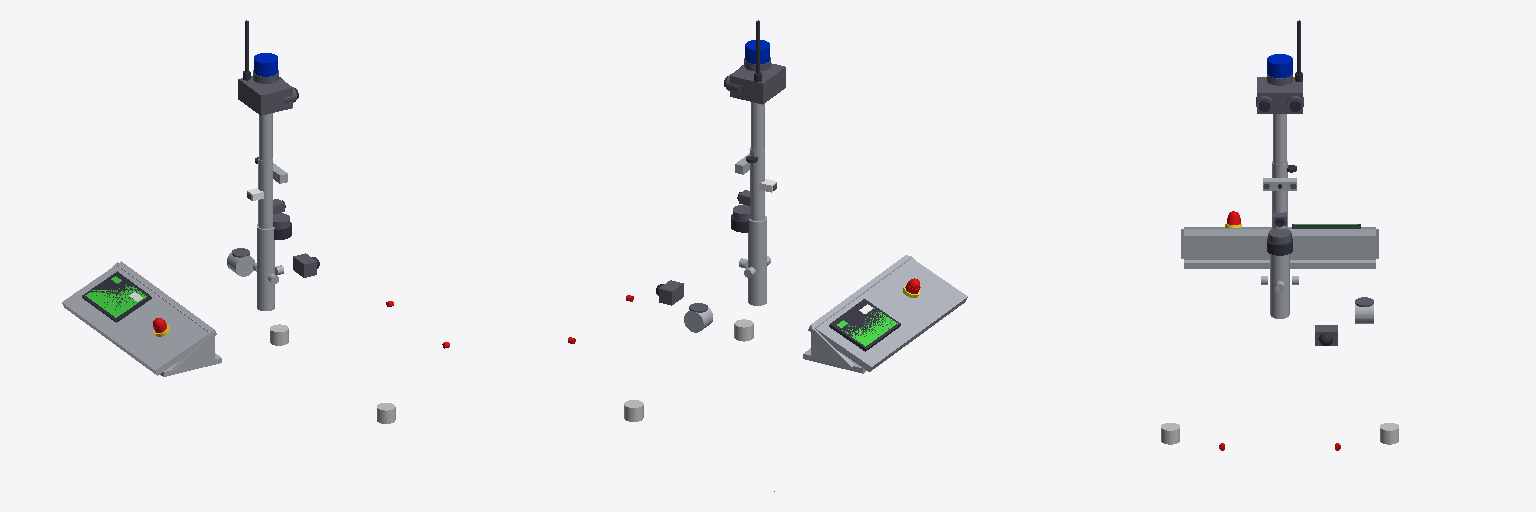
--- Render facts (derived) ---
The picture shows the robot from 3 angles, left to right: view 1: azimuth 30°, elevation 25°; view 2: azimuth 150°, elevation 25°; view 3: azimuth 270°, elevation 25°; orthographic projection.
Model security_patrol_robot with 43 links and 42 joints (1 revolute, 6 continuous, 35 fixed), rooted at base_link, posed every joint at zero.
Links seen in each view (by area): view 1: control_panel_link, lcd_screen_link, sensor_head_link, mast_base_link, mast_mid_link, beacon_light_link, mast_top_link, siren_link; view 2: control_panel_link, lcd_screen_link, sensor_head_link, mast_base_link, mast_mid_link, mast_top_link, siren_link, beacon_light_link, front_camera_link; view 3: control_panel_link, mast_base_link, sensor_head_link, beacon_light_link, mast_top_link, lidar_360_link, mast_mid_link.
Boxes of the visible links, left/top/right/bottom form: control_panel_link: left=62, top=261, right=221, bottom=376; lcd_screen_link: left=82, top=271, right=151, bottom=322; sensor_head_link: left=238, top=76, right=292, bottom=115; mast_base_link: left=257, top=224, right=274, bottom=310; mast_mid_link: left=258, top=158, right=272, bottom=228; beacon_light_link: left=253, top=53, right=278, bottom=83; mast_top_link: left=259, top=113, right=272, bottom=160; siren_link: left=227, top=248, right=254, bottom=276; control_panel_link: left=803, top=255, right=967, bottom=373; lcd_screen_link: left=829, top=299, right=900, bottom=351; sensor_head_link: left=730, top=63, right=785, bottom=104; mast_base_link: left=748, top=216, right=766, bottom=305; mast_mid_link: left=750, top=147, right=764, bottom=220; mast_top_link: left=751, top=102, right=764, bottom=150; siren_link: left=684, top=303, right=712, bottom=332; beacon_light_link: left=744, top=40, right=770, bottom=71; front_camera_link: left=656, top=280, right=683, bottom=305; control_panel_link: left=1181, top=227, right=1378, bottom=268; mast_base_link: left=1270, top=254, right=1289, bottom=318; sensor_head_link: left=1257, top=77, right=1302, bottom=113; beacon_light_link: left=1267, top=54, right=1292, bottom=85; mast_top_link: left=1273, top=114, right=1286, bottom=164; lidar_360_link: left=1267, top=228, right=1292, bottom=255; mast_mid_link: left=1272, top=161, right=1287, bottom=228.
Size in the robot's own frame: 0.9631 by 0.6208 by 1.36 metres.
2 mesh visuals loaded from 10 distinct referenced files (2 binary STL); not drawn: 14 (reference not matched to a file when rendering).

URDF robot description (security_patrol_robot):
<?xml version="1.0"?>
<robot name="security_patrol_robot">

  <!-- ========================================== -->
  <!-- MATERIALS                                  -->
  <!-- ========================================== -->
  <material name="police_white">
    <color rgba="0.95 0.95 0.95 1.0"/>
  </material>
  <material name="tactical_black">
    <color rgba="0.25 0.25 0.3 1.0"/>
  </material>
  <material name="warning_orange">
    <color rgba="1.0 0.5 0.0 1.0"/>
  </material>
  <material name="police_blue">
    <color rgba="0.0 0.2 0.8 1.0"/>
  </material>
  <material name="chrome_finish">
    <color rgba="0.8 0.8 0.8 1.0"/>
  </material>
  <material name="tire_rubber">
    <color rgba="0.2 0.2 0.22 1.0"/>
  </material>
  <material name="emergency_red">
    <color rgba="0.9 0.1 0.1 1.0"/>
  </material>
  <material name="sensor_green">
    <color rgba="0.3 0.85 0.3 1.0"/>
  </material>
  <material name="sensor_yellow">
    <color rgba="0.95 0.85 0.2 1.0"/>
  </material>
  <material name="sensor_cyan">
    <color rgba="0.2 0.8 0.9 1.0"/>
  </material>
  <material name="camera_gray">
    <color rgba="0.4 0.4 0.45 1.0"/>
  </material>
  <material name="lidar_blue">
    <color rgba="0.3 0.5 0.8 1.0"/>
  </material>
  <material name="mast_silver">
    <color rgba="0.7 0.72 0.75 1.0"/>
  </material>

  <!-- ========================================== -->
  <!-- BASE LINK & CHASSIS                        -->
  <!-- ========================================== -->
  <link name="base_link"/>

  <link name="base_footprint">
    <visual>
      <origin xyz="0 0 0" rpy="0 0 0"/>
      <geometry>
        <box size="0.001 0.001 0.001"/>
      </geometry>
    </visual>
  </link>

  <joint name="base_footprint_joint" type="fixed">
    <parent link="base_link"/>
    <child link="base_footprint"/>
    <origin xyz="0 0 -0.14" rpy="0 0 0"/>
  </joint>

  <link name="chassis_link">
    <visual>
      <origin xyz="0 0 0" rpy="0 0 0"/>
      <geometry>
        <mesh filename="package://security_robot/meshes/base/husky_base.dae"/>
      </geometry>
      <material name="police_white"/>
    </visual>
    <collision>
      <origin xyz="0 0 0.12" rpy="0 0 0"/>
      <geometry>
        <box size="0.99 0.67 0.25"/>
      </geometry>
    </collision>
    <inertial>
      <origin xyz="0 0 0.1" rpy="0 0 0"/>
      <mass value="50.0"/>
      <inertia ixx="1.5" ixy="0" ixz="0" iyy="2.5" iyz="0" izz="3.5"/>
    </inertial>
  </link>

  <joint name="base_joint" type="fixed">
    <parent link="base_link"/>
    <child link="chassis_link"/>
    <origin xyz="0 0 0.14" rpy="0 0 0"/>
  </joint>

  <!-- FENDERS -->
  <link name="fenders_link">
    <visual>
      <origin xyz="0 0 0" rpy="0 0 0"/>
      <geometry>
        <mesh filename="package://security_robot/meshes/base/fenders.stl"/>
      </geometry>
      <material name="warning_orange"/>
    </visual>
    <collision>
      <origin xyz="0 0 0.05" rpy="0 0 0"/>
      <geometry>
        <box size="1.0 0.75 0.1"/>
      </geometry>
    </collision>
    <inertial>
      <mass value="2.0"/>
      <inertia ixx="0.05" ixy="0" ixz="0" iyy="0.05" iyz="0" izz="0.05"/>
    </inertial>
  </link>

  <joint name="chassis_to_fenders" type="fixed">
    <parent link="chassis_link"/>
    <child link="fenders_link"/>
    <origin xyz="0 0 0" rpy="0 0 0"/>
  </joint>

  <!-- TOP PLATE -->
  <link name="top_plate">
    <visual>
      <origin xyz="0 0 0" rpy="0 0 0"/>
      <geometry>
        <mesh filename="package://security_robot/meshes/base/husky_top_plate.dae"/>
      </geometry>
      <material name="tactical_black"/>
    </visual>
    <collision>
      <origin xyz="0 0 0" rpy="0 0 0"/>
      <geometry>
        <box size="0.8 0.6 0.02"/>
      </geometry>
    </collision>
    <inertial>
      <mass value="3.0"/>
      <inertia ixx="0.1" ixy="0" ixz="0" iyy="0.1" iyz="0" izz="0.15"/>
    </inertial>
  </link>

  <joint name="chassis_to_top" type="fixed">
    <parent link="chassis_link"/>
    <child link="top_plate"/>
    <origin xyz="0 0 0.24" rpy="0 0 0"/>
  </joint>

  <!-- USER RAILS -->
  <link name="user_rail">
    <visual>
      <origin xyz="0 0 0" rpy="0 0 0"/>
      <geometry>
        <mesh filename="package://security_robot/meshes/base/husky_user_rail.dae"/>
      </geometry>
      <material name="chrome_finish"/>
    </visual>
    <collision>
      <origin xyz="0 0 0" rpy="0 0 0"/>
      <geometry>
        <box size="0.6 0.1 0.05"/>
      </geometry>
    </collision>
    <inertial>
      <mass value="0.5"/>
      <inertia ixx="0.001" ixy="0" ixz="0" iyy="0.01" iyz="0" izz="0.01"/>
    </inertial>
  </link>

  <joint name="top_to_rail" type="fixed">
    <parent link="top_plate"/>
    <child link="user_rail"/>
    <origin xyz="0.2 0 0" rpy="0 0 0"/>
  </joint>

  <!-- ========================================== -->
  <!-- BUMPERS WITH SENSORS                       -->
  <!-- ========================================== -->
  <link name="front_bumper">
    <visual>
      <origin xyz="0 0 0" rpy="0 0 0"/>
      <geometry>
        <mesh filename="package://security_robot/meshes/base/husky_bumper.dae"/>
      </geometry>
      <material name="warning_orange"/>
    </visual>
    <collision>
      <origin xyz="0 0 0" rpy="0 0 0"/>
      <geometry>
        <box size="0.1 0.6 0.1"/>
      </geometry>
    </collision>
    <inertial>
      <mass value="1.5"/>
      <inertia ixx="0.005" ixy="0" ixz="0" iyy="0.02" iyz="0" izz="0.02"/>
    </inertial>
  </link>

  <joint name="front_bumper_joint" type="fixed">
    <parent link="chassis_link"/>
    <child link="front_bumper"/>
    <origin xyz="0.49 0 0.09" rpy="0 0 0"/>
  </joint>

  <link name="rear_bumper">
    <visual>
      <origin xyz="0 0 0" rpy="0 0 3.14159"/>
      <geometry>
        <mesh filename="package://security_robot/meshes/base/husky_bumper.dae"/>
      </geometry>
      <material name="warning_orange"/>
    </visual>
    <collision>
      <origin xyz="0 0 0" rpy="0 0 0"/>
      <geometry>
        <box size="0.1 0.6 0.1"/>
      </geometry>
    </collision>
    <inertial>
      <mass value="1.5"/>
      <inertia ixx="0.005" ixy="0" ixz="0" iyy="0.02" iyz="0" izz="0.02"/>
    </inertial>
  </link>

  <joint name="rear_bumper_joint" type="fixed">
    <parent link="chassis_link"/>
    <child link="rear_bumper"/>
    <origin xyz="-0.49 0 0.09" rpy="0 0 0"/>
  </joint>

  <!-- FRONT IR SENSORS (Obstacle Detection) -->
  <link name="front_ir_left">
    <visual>
      <origin xyz="0 0 0" rpy="0 0 0"/>
      <geometry>
        <mesh filename="package://security_robot/meshes/sensors/ir_sensor.dae"/>
      </geometry>
      <material name="tactical_black"/>
    </visual>
    <collision>
      <geometry>
        <box size="0.02 0.02 0.02"/>
      </geometry>
    </collision>
    <inertial>
      <mass value="0.02"/>
      <inertia ixx="0.0001" ixy="0" ixz="0" iyy="0.0001" iyz="0" izz="0.0001"/>
    </inertial>
  </link>
  <joint name="front_bumper_to_ir_left" type="fixed">
    <parent link="front_bumper"/>
    <child link="front_ir_left"/>
    <origin xyz="0.02 0.15 0" rpy="0 0 0.3"/>
  </joint>

  <link name="front_ir_center">
    <visual>
      <origin xyz="0 0 0" rpy="0 0 0"/>
      <geometry>
        <mesh filename="package://security_robot/meshes/sensors/ir_sensor.dae"/>
      </geometry>
      <material name="tactical_black"/>
    </visual>
    <collision>
      <geometry>
        <box size="0.02 0.02 0.02"/>
      </geometry>
    </collision>
    <inertial>
      <mass value="0.02"/>
      <inertia ixx="0.0001" ixy="0" ixz="0" iyy="0.0001" iyz="0" izz="0.0001"/>
    </inertial>
  </link>
  <joint name="front_bumper_to_ir_center" type="fixed">
    <parent link="front_bumper"/>
    <child link="front_ir_center"/>
    <origin xyz="0.02 0 0" rpy="0 0 0"/>
  </joint>

  <link name="front_ir_right">
    <visual>
      <origin xyz="0 0 0" rpy="0 0 0"/>
      <geometry>
        <mesh filename="package://security_robot/meshes/sensors/ir_sensor.dae"/>
      </geometry>
      <material name="tactical_black"/>
    </visual>
    <collision>
      <geometry>
        <box size="0.02 0.02 0.02"/>
      </geometry>
    </collision>
    <inertial>
      <mass value="0.02"/>
      <inertia ixx="0.0001" ixy="0" ixz="0" iyy="0.0001" iyz="0" izz="0.0001"/>
    </inertial>
  </link>
  <joint name="front_bumper_to_ir_right" type="fixed">
    <parent link="front_bumper"/>
    <child link="front_ir_right"/>
    <origin xyz="0.02 -0.15 0" rpy="0 0 -0.3"/>
  </joint>

  <!-- ========================================== -->
  <!-- DIFFERENTIAL DRIVE SYSTEM                  -->
  <!-- 2 Motorlu Arka Tekerlek + 2 Caster Ön Tekerlek -->
  <!-- ========================================== -->

  <!-- ==================== MOTORLU ARKA TEKERLEKLER (Tahrik) ==================== -->
  
  <link name="rear_left_wheel">
    <visual>
      <origin xyz="0 0 0" rpy="0 0 0"/>
      <geometry>
        <mesh filename="package://security_robot/meshes/wheels/husky_wheel.dae" scale="0.79 0.79 0.79"/>
      </geometry>
      <material name="tire_rubber"/>
    </visual>
    <collision>
      <origin xyz="0 0 0" rpy="1.5708 0 0"/>
      <geometry>
        <cylinder radius="0.13" length="0.09"/>
      </geometry>
    </collision>
    <inertial>
      <origin xyz="0 0 0" rpy="0 0 0"/>
      <mass value="2.0"/>
      <inertia ixx="0.012" ixy="0" ixz="0" iyy="0.012" iyz="0" izz="0.022"/>
    </inertial>
  </link>
  <joint name="rl_wheel_joint" type="continuous">
    <parent link="chassis_link"/>
    <child link="rear_left_wheel"/>
    <origin xyz="-0.256 0.2854 -0.005" rpy="0 0 0"/>
    <axis xyz="0 1 0"/>
    <dynamics damping="0.1" friction="0.5"/>
  </joint>

  <link name="rear_right_wheel">
    <visual>
      <origin xyz="0 0 0" rpy="0 0 0"/>
      <geometry>
        <mesh filename="package://security_robot/meshes/wheels/husky_wheel.dae" scale="0.79 0.79 0.79"/>
      </geometry>
      <material name="tire_rubber"/>
    </visual>
    <collision>
      <origin xyz="0 0 0" rpy="1.5708 0 0"/>
      <geometry>
        <cylinder radius="0.13" length="0.09"/>
      </geometry>
    </collision>
    <inertial>
      <origin xyz="0 0 0" rpy="0 0 0"/>
      <mass value="2.0"/>
      <inertia ixx="0.012" ixy="0" ixz="0" iyy="0.012" iyz="0" izz="0.022"/>
    </inertial>
  </link>
  <joint name="rr_wheel_joint" type="continuous">
    <parent link="chassis_link"/>
    <child link="rear_right_wheel"/>
    <origin xyz="-0.256 -0.2854 -0.005" rpy="0 0 0"/>
    <axis xyz="0 1 0"/>
    <dynamics damping="0.1" friction="0.5"/>
  </joint>

  <!-- ==================== CASTER (SARHOŞ) ÖN TEKERLEKLER ==================== -->
  <!-- Caster tekerlekler iki eklemden oluşur:                                  -->
  <!-- 1. Yaw ekseni (Z): Dikey eksende serbest dönüş (yön değiştirme)         -->
  <!-- 2. Roll ekseni (Y): Tekerleğin kendi ekseni etrafında yuvarlanması      -->
  <!-- ======================================================================== -->

  <!-- SOL ÖN CASTER -->
  <!-- Caster pivot (dikey eksen - yaw) -->
  <link name="front_left_caster_pivot">
    <visual>
      <origin xyz="0 0 -0.02" rpy="0 0 0"/>
      <geometry>
        <cylinder radius="0.025" length="0.04"/>
      </geometry>
      <material name="chrome_finish"/>
    </visual>
    <collision>
      <origin xyz="0 0 -0.02" rpy="0 0 0"/>
      <geometry>
        <cylinder radius="0.025" length="0.04"/>
      </geometry>
    </collision>
    <inertial>
      <origin xyz="0 0 -0.02"/>
      <mass value="0.3"/>
      <inertia ixx="0.0002" ixy="0" ixz="0" iyy="0.0002" iyz="0" izz="0.0001"/>
    </inertial>
  </link>
  <joint name="fl_caster_yaw_joint" type="continuous">
    <parent link="chassis_link"/>
    <child link="front_left_caster_pivot"/>
    <origin xyz="0.256 0.2854 0.025" rpy="0 0 0"/>
    <axis xyz="0 0 1"/>
    <dynamics damping="0.01" friction="0.0"/>
  </joint>

  <!-- Caster tekerlek (yatay eksen - roll) -->
  <link name="front_left_caster_wheel">
    <visual>
      <origin xyz="0 0 0" rpy="0 0 0"/>
      <geometry>
        <mesh filename="package://security_robot/meshes/wheels/husky_wheel.dae" scale="0.60 0.60 0.60"/>
      </geometry>
      <material name="tire_rubber"/>
    </visual>
    <collision>
      <origin xyz="0 0 0" rpy="1.5708 0 0"/>
      <geometry>
        <cylinder radius="0.10" length="0.06"/>
      </geometry>
    </collision>
    <inertial>
      <origin xyz="0 0 0"/>
      <mass value="0.8"/>
      <inertia ixx="0.003" ixy="0" ixz="0" iyy="0.003" iyz="0" izz="0.005"/>
    </inertial>
  </link>
  <joint name="fl_caster_roll_joint" type="continuous">
    <parent link="front_left_caster_pivot"/>
    <child link="front_left_caster_wheel"/>
    <origin xyz="0.02 0 -0.065" rpy="0 0 0"/>
    <axis xyz="0 1 0"/>
    <dynamics damping="0.01" friction="0.0"/>
  </joint>

  <!-- SAĞ ÖN CASTER -->
  <!-- Caster pivot (dikey eksen - yaw) -->
  <link name="front_right_caster_pivot">
    <visual>
      <origin xyz="0 0 -0.02" rpy="0 0 0"/>
      <geometry>
        <cylinder radius="0.025" length="0.04"/>
      </geometry>
      <material name="chrome_finish"/>
    </visual>
    <collision>
      <origin xyz="0 0 -0.02" rpy="0 0 0"/>
      <geometry>
        <cylinder radius="0.025" length="0.04"/>
      </geometry>
    </collision>
    <inertial>
      <origin xyz="0 0 -0.02"/>
      <mass value="0.3"/>
      <inertia ixx="0.0002" ixy="0" ixz="0" iyy="0.0002" iyz="0" izz="0.0001"/>
    </inertial>
  </link>
  <joint name="fr_caster_yaw_joint" type="continuous">
    <parent link="chassis_link"/>
    <child link="front_right_caster_pivot"/>
    <origin xyz="0.256 -0.2854 0.025" rpy="0 0 0"/>
    <axis xyz="0 0 1"/>
    <dynamics damping="0.01" friction="0.0"/>
  </joint>

  <!-- Caster tekerlek (yatay eksen - roll) -->
  <link name="front_right_caster_wheel">
    <visual>
      <origin xyz="0 0 0" rpy="0 0 0"/>
      <geometry>
        <mesh filename="package://security_robot/meshes/wheels/husky_wheel.dae" scale="0.60 0.60 0.60"/>
      </geometry>
      <material name="tire_rubber"/>
    </visual>
    <collision>
      <origin xyz="0 0 0" rpy="1.5708 0 0"/>
      <geometry>
        <cylinder radius="0.10" length="0.06"/>
      </geometry>
    </collision>
    <inertial>
      <origin xyz="0 0 0"/>
      <mass value="0.8"/>
      <inertia ixx="0.003" ixy="0" ixz="0" iyy="0.003" iyz="0" izz="0.005"/>
    </inertial>
  </link>
  <joint name="fr_caster_roll_joint" type="continuous">
    <parent link="front_right_caster_pivot"/>
    <child link="front_right_caster_wheel"/>
    <origin xyz="0.02 0 -0.065" rpy="0 0 0"/>
    <axis xyz="0 1 0"/>
    <dynamics damping="0.01" friction="0.0"/>
  </joint>

  <!-- ========================================== -->
  <!-- IMU SENSOR (On Chassis)                    -->
  <!-- ========================================== -->
  <link name="imu_link">
    <visual>
      <origin xyz="0 0 0" rpy="0 0 0"/>
      <geometry>
        <mesh filename="package://security_robot/meshes/sensors/imu_sensor.stl" scale="0.001 0.001 0.001"/>
      </geometry>
      <material name="sensor_green"/>
    </visual>
    <collision>
      <geometry>
        <box size="0.03 0.03 0.01"/>
      </geometry>
    </collision>
    <inertial>
      <mass value="0.01"/>
      <inertia ixx="0.00001" ixy="0" ixz="0" iyy="0.00001" iyz="0" izz="0.00001"/>
    </inertial>
  </link>
  <joint name="chassis_to_imu" type="fixed">
    <parent link="chassis_link"/>
    <child link="imu_link"/>
    <origin xyz="0 0 0.2" rpy="0 0 0"/>
  </joint>

  <!-- ========================================== -->
  <!-- 3-LEVEL VERTICAL SENSOR MAST                -->
  <!-- Referans: SIRD-3000S / Husky Observer       -->
  <!-- Basit dikey silindir yapısı                 -->
  <!-- 3 seviye: mast_base, mast_mid, mast_top     -->
  <!-- ========================================== -->

  <!-- ==================== MAST STRUCTURE (3 Level - From V2) ==================== -->
  
  <!-- MAST BASE - Level 1 (Silver vertical cylinder) -->
  <link name="mast_base_link">
    <visual>
      <origin xyz="0 0 0.12" rpy="0 0 0"/>
      <geometry>
        <cylinder radius="0.025" length="0.24"/>
      </geometry>
      <material name="mast_silver"/>
    </visual>
    <collision>
      <origin xyz="0 0 0.12" rpy="0 0 0"/>
      <geometry>
        <cylinder radius="0.025" length="0.24"/>
      </geometry>
    </collision>
    <inertial>
      <mass value="1.0"/>
      <origin xyz="0 0 0.12"/>
      <inertia ixx="0.01" ixy="0" ixz="0" iyy="0.01" iyz="0" izz="0.002"/>
    </inertial>
  </link>
  <joint name="top_to_mast_base" type="fixed">
    <parent link="top_plate"/>
    <child link="mast_base_link"/>
    <origin xyz="0.05 0 0.01" rpy="0 0 0"/>
  </joint>

  <!-- 360 LIDAR (On mast base level) -->
  <link name="lidar_360_link">
    <!-- LiDAR base -->
    <visual>
      <origin xyz="0 0 0" rpy="0 0 0"/>
      <geometry>
        <cylinder radius="0.035" length="0.03"/>
      </geometry>
      <material name="tactical_black"/>
    </visual>
    <!-- LiDAR rotating top -->
    <visual>
      <origin xyz="0 0 0.025" rpy="0 0 0"/>
      <geometry>
        <cylinder radius="0.030" length="0.02"/>
      </geometry>
      <material name="camera_gray"/>
    </visual>
    <collision>
      <origin xyz="0 0 0.015" rpy="0 0 0"/>
      <geometry>
        <cylinder radius="0.035" length="0.05"/>
      </geometry>
    </collision>
    <inertial>
      <mass value="0.2"/>
      <inertia ixx="0.0001" ixy="0" ixz="0" iyy="0.0001" iyz="0" izz="0.0001"/>
    </inertial>
  </link>
  <joint name="mast_base_to_lidar360" type="fixed">
    <parent link="mast_base_link"/>
    <child link="lidar_360_link"/>
    <origin xyz="0.04 0 0.22" rpy="0 0 0"/>
  </joint>

  <!-- MAST MID - Level 2 (Thinner cylinder) -->
  <link name="mast_mid_link">
    <visual>
      <origin xyz="0 0 0.10" rpy="0 0 0"/>
      <geometry>
        <cylinder radius="0.020" length="0.20"/>
      </geometry>
      <material name="mast_silver"/>
    </visual>
    <collision>
      <origin xyz="0 0 0.10" rpy="0 0 0"/>
      <geometry>
        <cylinder radius="0.020" length="0.20"/>
      </geometry>
    </collision>
    <inertial>
      <mass value="0.7"/>
      <origin xyz="0 0 0.10"/>
      <inertia ixx="0.005" ixy="0" ixz="0" iyy="0.005" iyz="0" izz="0.001"/>
    </inertial>
  </link>
  <joint name="mast_base_to_mast_mid" type="fixed">
    <parent link="mast_base_link"/>
    <child link="mast_mid_link"/>
    <origin xyz="0 0 0.24" rpy="0 0 0"/>
  </joint>

  <!-- DEPTH CAMERA (RealSense style on mast mid) -->
  <link name="depth_camera_link">
    <visual>
      <origin xyz="0 0 0" rpy="0 0 0"/>
      <geometry>
        <box size="0.025 0.09 0.025"/>
      </geometry>
      <material name="mast_silver"/>
    </visual>
    <!-- IR emitters (left and right) -->
    <visual>
      <origin xyz="0.012 0.035 0" rpy="0 1.5708 0"/>
      <geometry>
        <cylinder radius="0.008" length="0.005"/>
      </geometry>
      <material name="camera_gray"/>
    </visual>
    <visual>
      <origin xyz="0.012 -0.035 0" rpy="0 1.5708 0"/>
      <geometry>
        <cylinder radius="0.008" length="0.005"/>
      </geometry>
      <material name="camera_gray"/>
    </visual>
    <!-- RGB camera (center) -->
    <visual>
      <origin xyz="0.012 0 0" rpy="0 1.5708 0"/>
      <geometry>
        <cylinder radius="0.006" length="0.005"/>
      </geometry>
      <material name="tactical_black"/>
    </visual>
    <collision>
      <geometry>
        <box size="0.025 0.09 0.025"/>
      </geometry>
    </collision>
    <inertial>
      <mass value="0.072"/>
      <inertia ixx="0.00001" ixy="0" ixz="0" iyy="0.00001" iyz="0" izz="0.00001"/>
    </inertial>
  </link>
  <joint name="mast_mid_to_depth_camera" type="fixed">
    <parent link="mast_mid_link"/>
    <child link="depth_camera_link"/>
    <origin xyz="0.03 0 0.15" rpy="0 0 0"/>
  </joint>

  <!-- MAST TOP - Level 3 -->
  <link name="mast_top_link">
    <visual>
      <origin xyz="0 0 0.08" rpy="0 0 0"/>
      <geometry>
        <cylinder radius="0.018" length="0.16"/>
      </geometry>
      <material name="mast_silver"/>
    </visual>
    <collision>
      <origin xyz="0 0 0.08" rpy="0 0 0"/>
      <geometry>
        <cylinder radius="0.018" length="0.16"/>
      </geometry>
    </collision>
    <inertial>
      <mass value="0.5"/>
      <origin xyz="0 0 0.08"/>
      <inertia ixx="0.003" ixy="0" ixz="0" iyy="0.003" iyz="0" izz="0.0005"/>
    </inertial>
  </link>
  <joint name="mast_mid_to_mast_top" type="fixed">
    <parent link="mast_mid_link"/>
    <child link="mast_top_link"/>
    <origin xyz="0 0 0.20" rpy="0 0 0"/>
  </joint>

  <!-- ==================== SENSOR HEAD (Top of mast with cameras - From V2) ==================== -->
  <link name="sensor_head_link">
    <visual>
      <origin xyz="0 0 0" rpy="0 0 0"/>
      <geometry>
        <box size="0.10 0.12 0.06"/>
      </geometry>
      <material name="camera_gray"/>
    </visual>
    <collision>
      <geometry>
        <box size="0.10 0.12 0.06"/>
      </geometry>
    </collision>
    <inertial>
      <mass value="0.5"/>
      <inertia ixx="0.002" ixy="0" ixz="0" iyy="0.002" iyz="0" izz="0.001"/>
    </inertial>
  </link>
  <joint name="mast_top_to_sensor_head" type="revolute">
    <parent link="mast_top_link"/>
    <child link="sensor_head_link"/>
    <origin xyz="0 0 0.19" rpy="0 0 0"/>
    <axis xyz="0 0 1"/>
    <limit lower="-3.14159" upper="3.14159" effort="10" velocity="1.0"/>
  </joint>

  <!-- ==================== CAMERAS ON SENSOR HEAD (Cylindrical lens - From V2) ==================== -->
  <!-- Left Camera (Cylindrical lens housing) -->
  <link name="camera_left_link">
    <visual>
      <origin xyz="0.02 0 0" rpy="0 1.5708 0"/>
      <geometry>
        <cylinder radius="0.022" length="0.04"/>
      </geometry>
      <material name="camera_gray"/>
    </visual>
    <!-- Camera lens -->
    <visual>
      <origin xyz="0.045 0 0" rpy="0 1.5708 0"/>
      <geometry>
        <cylinder radius="0.015" length="0.01"/>
      </geometry>
      <material name="tactical_black"/>
    </visual>
    <collision>
      <origin xyz="0.02 0 0" rpy="0 1.5708 0"/>
      <geometry>
        <cylinder radius="0.022" length="0.04"/>
      </geometry>
    </collision>
    <inertial>
      <mass value="0.1"/>
      <inertia ixx="0.00005" ixy="0" ixz="0" iyy="0.00005" iyz="0" izz="0.00005"/>
    </inertial>
  </link>
  <joint name="sensor_head_to_camera_left" type="fixed">
    <parent link="sensor_head_link"/>
    <child link="camera_left_link"/>
    <origin xyz="0.02 0.04 0" rpy="0 0 0"/>
  </joint>

  <!-- Right Camera (Cylindrical lens housing) -->
  <link name="camera_right_link">
    <visual>
      <origin xyz="0.02 0 0" rpy="0 1.5708 0"/>
      <geometry>
        <cylinder radius="0.022" length="0.04"/>
      </geometry>
      <material name="camera_gray"/>
    </visual>
    <!-- Camera lens -->
    <visual>
      <origin xyz="0.045 0 0" rpy="0 1.5708 0"/>
      <geometry>
        <cylinder radius="0.015" length="0.01"/>
      </geometry>
      <material name="tactical_black"/>
    </visual>
    <collision>
      <origin xyz="0.02 0 0" rpy="0 1.5708 0"/>
      <geometry>
        <cylinder radius="0.022" length="0.04"/>
      </geometry>
    </collision>
    <inertial>
      <mass value="0.1"/>
      <inertia ixx="0.00005" ixy="0" ixz="0" iyy="0.00005" iyz="0" izz="0.00005"/>
    </inertial>
  </link>
  <joint name="sensor_head_to_camera_right" type="fixed">
    <parent link="sensor_head_link"/>
    <child link="camera_right_link"/>
    <origin xyz="0.02 -0.04 0" rpy="0 0 0"/>
  </joint>

  <!-- ==================== BEACON LIGHT (Blue rotating light on top - From V2) ==================== -->
  <link name="beacon_light_link">
    <!-- Beacon base -->
    <visual>
      <origin xyz="0 0 0" rpy="0 0 0"/>
      <geometry>
        <cylinder radius="0.035" length="0.02"/>
      </geometry>
      <material name="camera_gray"/>
    </visual>
    <!-- Blue light dome -->
    <visual>
      <origin xyz="0 0 0.03" rpy="0 0 0"/>
      <geometry>
        <cylinder radius="0.033" length="0.04"/>
      </geometry>
      <material name="police_blue"/>
    </visual>
    <collision>
      <origin xyz="0 0 0.025" rpy="0 0 0"/>
      <geometry>
        <cylinder radius="0.035" length="0.05"/>
      </geometry>
    </collision>
    <inertial>
      <mass value="0.15"/>
      <inertia ixx="0.0001" ixy="0" ixz="0" iyy="0.0001" iyz="0" izz="0.0001"/>
    </inertial>
  </link>
  <joint name="sensor_head_to_beacon" type="fixed">
    <parent link="sensor_head_link"/>
    <child link="beacon_light_link"/>
    <origin xyz="0 0 0.055" rpy="0 0 0"/>
  </joint>

  <!-- ==================== ANTENNA (Vertical antenna next to beacon - From V2) ==================== -->
  <link name="antenna_link">
    <visual>
      <origin xyz="0 0 0.08" rpy="0 0 0"/>
      <geometry>
        <cylinder radius="0.005" length="0.16"/>
      </geometry>
      <material name="tactical_black"/>
    </visual>
    <!-- Antenna base -->
    <visual>
      <origin xyz="0 0 0" rpy="0 0 0"/>
      <geometry>
        <cylinder radius="0.01" length="0.02"/>
      </geometry>
      <material name="tactical_black"/>
    </visual>
    <collision>
      <origin xyz="0 0 0.08" rpy="0 0 0"/>
      <geometry>
        <cylinder radius="0.008" length="0.16"/>
      </geometry>
    </collision>
    <inertial>
      <mass value="0.03"/>
      <inertia ixx="0.00001" ixy="0" ixz="0" iyy="0.00001" iyz="0" izz="0.000001"/>
    </inertial>
  </link>
  <joint name="sensor_head_to_antenna" type="fixed">
    <parent link="sensor_head_link"/>
    <child link="antenna_link"/>
    <origin xyz="-0.03 0.05 0.04" rpy="0 0 0"/>
  </joint>

  <!-- ==================== ULTRASONIC SENSORS (On mast base - From V2) ==================== -->
  <link name="ultrasonic_front_link">
    <visual>
      <origin xyz="0.01 0 0" rpy="0 1.5708 0"/>
      <geometry>
        <cylinder radius="0.012" length="0.02"/>
      </geometry>
      <material name="mast_silver"/>
    </visual>
    <inertial>
      <mass value="0.02"/>
      <inertia ixx="0.000001" ixy="0" ixz="0" iyy="0.000001" iyz="0" izz="0.000001"/>
    </inertial>
  </link>
  <joint name="mast_base_to_ultrasonic_front" type="fixed">
    <parent link="mast_base_link"/>
    <child link="ultrasonic_front_link"/>
    <origin xyz="0.03 0 0.10" rpy="0 0 0"/>
  </joint>

  <link name="ultrasonic_left_link">
    <visual>
      <origin xyz="0 0.01 0" rpy="1.5708 0 0"/>
      <geometry>
        <cylinder radius="0.012" length="0.02"/>
      </geometry>
      <material name="mast_silver"/>
    </visual>
    <inertial>
      <mass value="0.02"/>
      <inertia ixx="0.000001" ixy="0" ixz="0" iyy="0.000001" iyz="0" izz="0.000001"/>
    </inertial>
  </link>
  <joint name="mast_base_to_ultrasonic_left" type="fixed">
    <parent link="mast_base_link"/>
    <child link="ultrasonic_left_link"/>
    <origin xyz="0 0.03 0.10" rpy="0 0 0"/>
  </joint>

  <link name="ultrasonic_right_link">
    <visual>
      <origin xyz="0 -0.01 0" rpy="1.5708 0 0"/>
      <geometry>
        <cylinder radius="0.012" length="0.02"/>
      </geometry>
      <material name="mast_silver"/>
    </visual>
    <inertial>
      <mass value="0.02"/>
      <inertia ixx="0.000001" ixy="0" ixz="0" iyy="0.000001" iyz="0" izz="0.000001"/>
    </inertial>
  </link>
  <joint name="mast_base_to_ultrasonic_right" type="fixed">
    <parent link="mast_base_link"/>
    <child link="ultrasonic_right_link"/>
    <origin xyz="0 -0.03 0.10" rpy="0 0 0"/>
  </joint>

  <!-- ==================== THERMAL CAMERA (On mast mid - From V2) ==================== -->
  <link name="thermal_camera_link">
    <visual>
      <origin xyz="0 0 0" rpy="0 0 0"/>
      <geometry>
        <box size="0.035 0.035 0.025"/>
      </geometry>
      <material name="camera_gray"/>
    </visual>
    <!-- Thermal lens -->
    <visual>
      <origin xyz="0.02 0 0" rpy="0 1.5708 0"/>
      <geometry>
        <cylinder radius="0.012" length="0.008"/>
      </geometry>
      <material name="tactical_black"/>
    </visual>
    <collision>
      <geometry>
        <box size="0.035 0.035 0.025"/>
      </geometry>
    </collision>
    <inertial>
      <mass value="0.08"/>
      <inertia ixx="0.00003" ixy="0" ixz="0" iyy="0.00003" iyz="0" izz="0.00003"/>
    </inertial>
  </link>
  <joint name="mast_mid_to_thermal" type="fixed">
    <parent link="mast_mid_link"/>
    <child link="thermal_camera_link"/>
    <origin xyz="0.03 0 0.05" rpy="0 0 0"/>
  </joint>

  <!-- ==================== ENVIRONMENTAL SENSORS (From V2) ==================== -->
  <link name="environmental_sensor_link">
    <visual>
      <origin xyz="0 0 0" rpy="0 0 0"/>
      <geometry>
        <box size="0.04 0.03 0.02"/>
      </geometry>
      <material name="police_white"/>
    </visual>
    <!-- Sensor vents -->
    <visual>
      <origin xyz="0.022 0 0" rpy="0 0 0"/>
      <geometry>
        <box size="0.002 0.02 0.015"/>
      </geometry>
      <material name="camera_gray"/>
    </visual>
    <collision>
      <geometry>
        <box size="0.04 0.03 0.02"/>
      </geometry>
    </collision>
    <inertial>
      <mass value="0.05"/>
      <inertia ixx="0.00002" ixy="0" ixz="0" iyy="0.00002" iyz="0" izz="0.00002"/>
    </inertial>
  </link>
  <joint name="mast_mid_to_environmental" type="fixed">
    <parent link="mast_mid_link"/>
    <child link="environmental_sensor_link"/>
    <origin xyz="-0.03 0 0.10" rpy="0 0 3.14159"/>
  </joint>

  <!-- ==================== MICROPHONE ARRAY (From V2) ==================== -->
  <link name="microphone_array_link">
    <visual>
      <origin xyz="0 0 0" rpy="0 0 0"/>
      <geometry>
        <cylinder radius="0.015" length="0.008"/>
      </geometry>
      <material name="tactical_black"/>
    </visual>
    <inertial>
      <mass value="0.015"/>
      <inertia ixx="0.000001" ixy="0" ixz="0" iyy="0.000001" iyz="0" izz="0.000001"/>
    </inertial>
  </link>
  <joint name="mast_mid_to_microphone" type="fixed">
    <parent link="mast_mid_link"/>
    <child link="microphone_array_link"/>
    <origin xyz="0 0.03 0.18" rpy="0 0 0"/>
  </joint>

  <!-- ==================== SIREN (On left side of chassis - From V2) ==================== -->
  <link name="siren_link">
    <visual>
      <origin xyz="0 0 0" rpy="0 0 0"/>
      <geometry>
        <cylinder radius="0.03" length="0.05"/>
      </geometry>
      <material name="mast_silver"/>
    </visual>
    <!-- Speaker grille -->
    <visual>
      <origin xyz="0 0.03 0" rpy="1.5708 0 0"/>
      <geometry>
        <cylinder radius="0.025" length="0.005"/>
      </geometry>
      <material name="camera_gray"/>
    </visual>
    <collision>
      <geometry>
        <cylinder radius="0.03" length="0.05"/>
      </geometry>
    </collision>
    <inertial>
      <mass value="0.2"/>
      <inertia ixx="0.0002" ixy="0" ixz="0" iyy="0.0002" iyz="0" izz="0.0002"/>
    </inertial>
  </link>
  <joint name="top_to_siren" type="fixed">
    <parent link="top_plate"/>
    <child link="siren_link"/>
    <origin xyz="0.10 0.22 0.04" rpy="1.5708 0 0"/>
  </joint>

  <!-- ==================== GPS Module (From V2) ==================== -->
  <link name="gps_link">
    <visual>
      <origin xyz="0 0 0" rpy="0 0 0"/>
      <geometry>
        <cylinder radius="0.025" length="0.012"/>
      </geometry>
      <material name="police_white"/>
    </visual>
    <collision>
      <geometry>
        <cylinder radius="0.025" length="0.012"/>
      </geometry>
    </collision>
    <inertial>
      <mass value="0.03"/>
      <inertia ixx="0.00001" ixy="0" ixz="0" iyy="0.00001" iyz="0" izz="0.00001"/>
    </inertial>
  </link>
  <joint name="top_to_gps" type="fixed">
    <parent link="top_plate"/>
    <child link="gps_link"/>
    <origin xyz="-0.18 0 0.02" rpy="0 0 0"/>
  </joint>

  <!-- ==================== FRONT CAMERA (Fisheye style - From V2) ==================== -->
  <link name="front_camera_link">
    <!-- Camera housing -->
    <visual>
      <origin xyz="0 0 0" rpy="0 0 0"/>
      <geometry>
        <box size="0.04 0.06 0.04"/>
      </geometry>
      <material name="camera_gray"/>
    </visual>
    <!-- Camera lens (dome style) -->
    <visual>
      <origin xyz="0.025 0 0" rpy="0 1.5708 0"/>
      <geometry>
        <sphere radius="0.018"/>
      </geometry>
      <material name="tactical_black"/>
    </visual>
    <collision>
      <geometry>
        <box size="0.04 0.06 0.04"/>
      </geometry>
    </collision>
    <inertial>
      <mass value="0.1"/>
      <inertia ixx="0.00005" ixy="0" ixz="0" iyy="0.00005" iyz="0" izz="0.00005"/>
    </inertial>
  </link>
  <joint name="top_to_front_camera" type="fixed">
    <parent link="top_plate"/>
    <child link="front_camera_link"/>
    <origin xyz="0.24 0.12 0.04" rpy="0 0 0"/>
  </joint>

  <!-- ==================== PROXIMITY SENSORS (On chassis - From V2) ==================== -->
  <link name="proximity_front_left_link">
    <visual>
      <origin xyz="0.01 0 0" rpy="0 1.5708 0"/>
      <geometry>
        <cylinder radius="0.008" length="0.015"/>
      </geometry>
      <material name="emergency_red"/>
    </visual>
    <inertial>
      <mass value="0.01"/>
      <inertia ixx="0.000001" ixy="0" ixz="0" iyy="0.000001" iyz="0" izz="0.000001"/>
    </inertial>
  </link>
  <joint name="chassis_to_prox_fl" type="fixed">
    <parent link="front_bumper"/>
    <child link="proximity_front_left_link"/>
    <origin xyz="0.02 0.15 0" rpy="0 0 0"/>
  </joint>

  <link name="proximity_front_right_link">
    <visual>
      <origin xyz="0.01 0 0" rpy="0 1.5708 0"/>
      <geometry>
        <cylinder radius="0.008" length="0.015"/>
      </geometry>
      <material name="emergency_red"/>
    </visual>
    <inertial>
      <mass value="0.01"/>
      <inertia ixx="0.000001" ixy="0" ixz="0" iyy="0.000001" iyz="0" izz="0.000001"/>
    </inertial>
  </link>
  <joint name="chassis_to_prox_fr" type="fixed">
    <parent link="front_bumper"/>
    <child link="proximity_front_right_link"/>
    <origin xyz="0.02 -0.15 0" rpy="0 0 0"/>
  </joint>

  <!-- ================================================================ -->
  <!-- PROFESSIONAL CONTROL PANEL - Exact match to reference image    -->
  <!-- Sloped front, tall back, black trim edges                      -->
  <!-- ================================================================ -->
  
  <!-- Main Panel Housing -->
  <link name="control_panel_link">
    <!-- Back wall (tall vertical section) -->
    <visual>
      <origin xyz="0.06 0 0.045" rpy="0 0 0"/>
      <geometry>
        <box size="0.015 0.50 0.09"/>
      </geometry>
      <material name="mast_silver"/>
    </visual>
    
    <!-- Bottom plate (horizontal base) -->
    <visual>
      <origin xyz="0 0 0" rpy="0 0 0"/>
      <geometry>
        <box size="0.18 0.50 0.015"/>
      </geometry>
      <material name="mast_silver"/>
    </visual>
    
    <!-- Sloped top/front panel (LONGER slope for screen) -->
    <visual>
      <origin xyz="-0.02 0 0.048" rpy="0 -0.40 0"/>
      <geometry>
        <box size="0.20 0.50 0.018"/>
      </geometry>
      <material name="mast_silver"/>
    </visual>
    
    <!-- Left side triangular wedge plate -->
    <visual>
      <origin xyz="0.0 0.242 0.007" rpy="0 0 0"/>
      <geometry>
        <mesh filename="package://security_robot/meshes/panel_wedge_left.stl"/>
      </geometry>
      <material name="mast_silver"/>
    </visual>
    
    <!-- Right side triangular wedge plate -->
    <visual>
      <origin xyz="0.0 -0.242 0.007" rpy="0 0 0"/>
      <geometry>
        <mesh filename="package://security_robot/meshes/panel_wedge_right.stl"/>
      </geometry>
      <material name="mast_silver"/>
    </visual>
    
    <collision>
      <geometry>
        <box size="0.18 0.50 0.09"/>
      </geometry>
    </collision>
    <inertial>
      <mass value="3.0"/>
      <inertia ixx="0.015" ixy="0" ixz="0" iyy="0.015" iyz="0" izz="0.015"/>
    </inertial>
  </link>
  <joint name="top_to_control_panel" type="fixed">
    <parent link="top_plate"/>
    <child link="control_panel_link"/>
    <origin xyz="-0.32 0 0.02" rpy="0 0 0"/>
  </joint>

  <!-- Emergency Stop Button (on sloped surface, left side) -->
  <link name="estop_button_link">
    <!-- Yellow safety base -->
    <visual>
      <origin xyz="0 0 0" rpy="0 0 0"/>
      <geometry>
        <cylinder radius="0.022" length="0.012"/>
      </geometry>
      <material name="sensor_yellow"/>
    </visual>
    <!-- Red mushroom button -->
    <visual>
      <origin xyz="0 0 0.014" rpy="0 0 0"/>
      <geometry>
        <cylinder radius="0.018" length="0.016"/>
      </geometry>
      <material name="emergency_red"/>
    </visual>
    <!-- Dome top -->
    <visual>
      <origin xyz="0 0 0.024" rpy="0 0 0"/>
      <geometry>
        <sphere radius="0.016"/>
      </geometry>
      <material name="emergency_red"/>
    </visual>
    <collision>
      <geometry>
        <cylinder radius="0.022" length="0.04"/>
      </geometry>
    </collision>
    <inertial>
      <mass value="0.05"/>
      <inertia ixx="0.00001" ixy="0" ixz="0" iyy="0.00001" iyz="0" izz="0.00001"/>
    </inertial>
  </link>
  <joint name="panel_to_estop" type="fixed">
    <parent link="control_panel_link"/>
    <child link="estop_button_link"/>
    <origin xyz="-0.02 -0.12 0.062" rpy="0 -0.40 0"/>
  </joint>

  <!-- LCD Touchscreen Display - FLAT ON SLOPE, same angle as slope panel -->
  <link name="lcd_screen_link">
    <!-- Black bezel frame - horizontal landscape -->
    <visual>
      <origin xyz="0 0 0" rpy="0 0 0"/>
      <geometry>
        <box size="0.12 0.18 0.010"/>
      </geometry>
      <material name="tactical_black"/>
    </visual>
    <!-- Screen area (green display) -->
    <visual>
      <origin xyz="0 0 0.004" rpy="0 0 0"/>
      <geometry>
        <box size="0.105 0.165 0.002"/>
      </geometry>
      <material name="sensor_green"/>
    </visual>
    <!-- Status indicator bar on screen -->
    <visual>
      <origin xyz="0.032 -0.055 0.005" rpy="0 0 0"/>
      <geometry>
        <box size="0.020 0.045 0.001"/>
      </geometry>
      <material name="police_white"/>
    </visual>
    <!-- Battery icon -->
    <visual>
      <origin xyz="0.038 0.060 0.005" rpy="0 0 0"/>
      <geometry>
        <box size="0.016 0.035 0.001"/>
      </geometry>
      <material name="sensor_green"/>
    </visual>
    <collision>
      <geometry>
        <box size="0.12 0.18 0.010"/>
      </geometry>
    </collision>
    <inertial>
      <mass value="0.3"/>
      <inertia ixx="0.0002" ixy="0" ixz="0" iyy="0.0002" iyz="0" izz="0.0002"/>
    </inertial>
  </link>
  <joint name="panel_to_lcd" type="fixed">
    <parent link="control_panel_link"/>
    <child link="lcd_screen_link"/>
    <origin xyz="-0.02 0.12 0.062" rpy="0 -0.40 0"/>
  </joint>

  <!-- USB Ports (on front face, below screen area) -->
  <link name="usb_ports_link">
    <!-- Port housing -->
    <visual>
      <origin xyz="0 0 0" rpy="0 0 0"/>
      <geometry>
        <box size="0.012 0.055 0.016"/>
      </geometry>
      <material name="tactical_black"/>
    </visual>
    <!-- USB Port 1 (blue) -->
    <visual>
      <origin xyz="0.004 0.016 0" rpy="0 0 0"/>
      <geometry>
        <box size="0.006 0.013 0.005"/>
      </geometry>
      <material name="police_blue"/>
    </visual>
    <!-- USB Port 2 (blue) -->
    <visual>
      <origin xyz="0.004 -0.016 0" rpy="0 0 0"/>
      <geometry>
        <box size="0.006 0.013 0.005"/>
      </geometry>
      <material name="police_blue"/>
    </visual>
    <inertial>
      <mass value="0.02"/>
      <inertia ixx="0.000005" ixy="0" ixz="0" iyy="0.000005" iyz="0" izz="0.000005"/>
    </inertial>
  </link>
  <joint name="panel_to_usb" type="fixed">
    <parent link="control_panel_link"/>
    <child link="usb_ports_link"/>
    <origin xyz="-0.055 0.10 0.018" rpy="0 0 0"/>
  </joint>

</robot>
